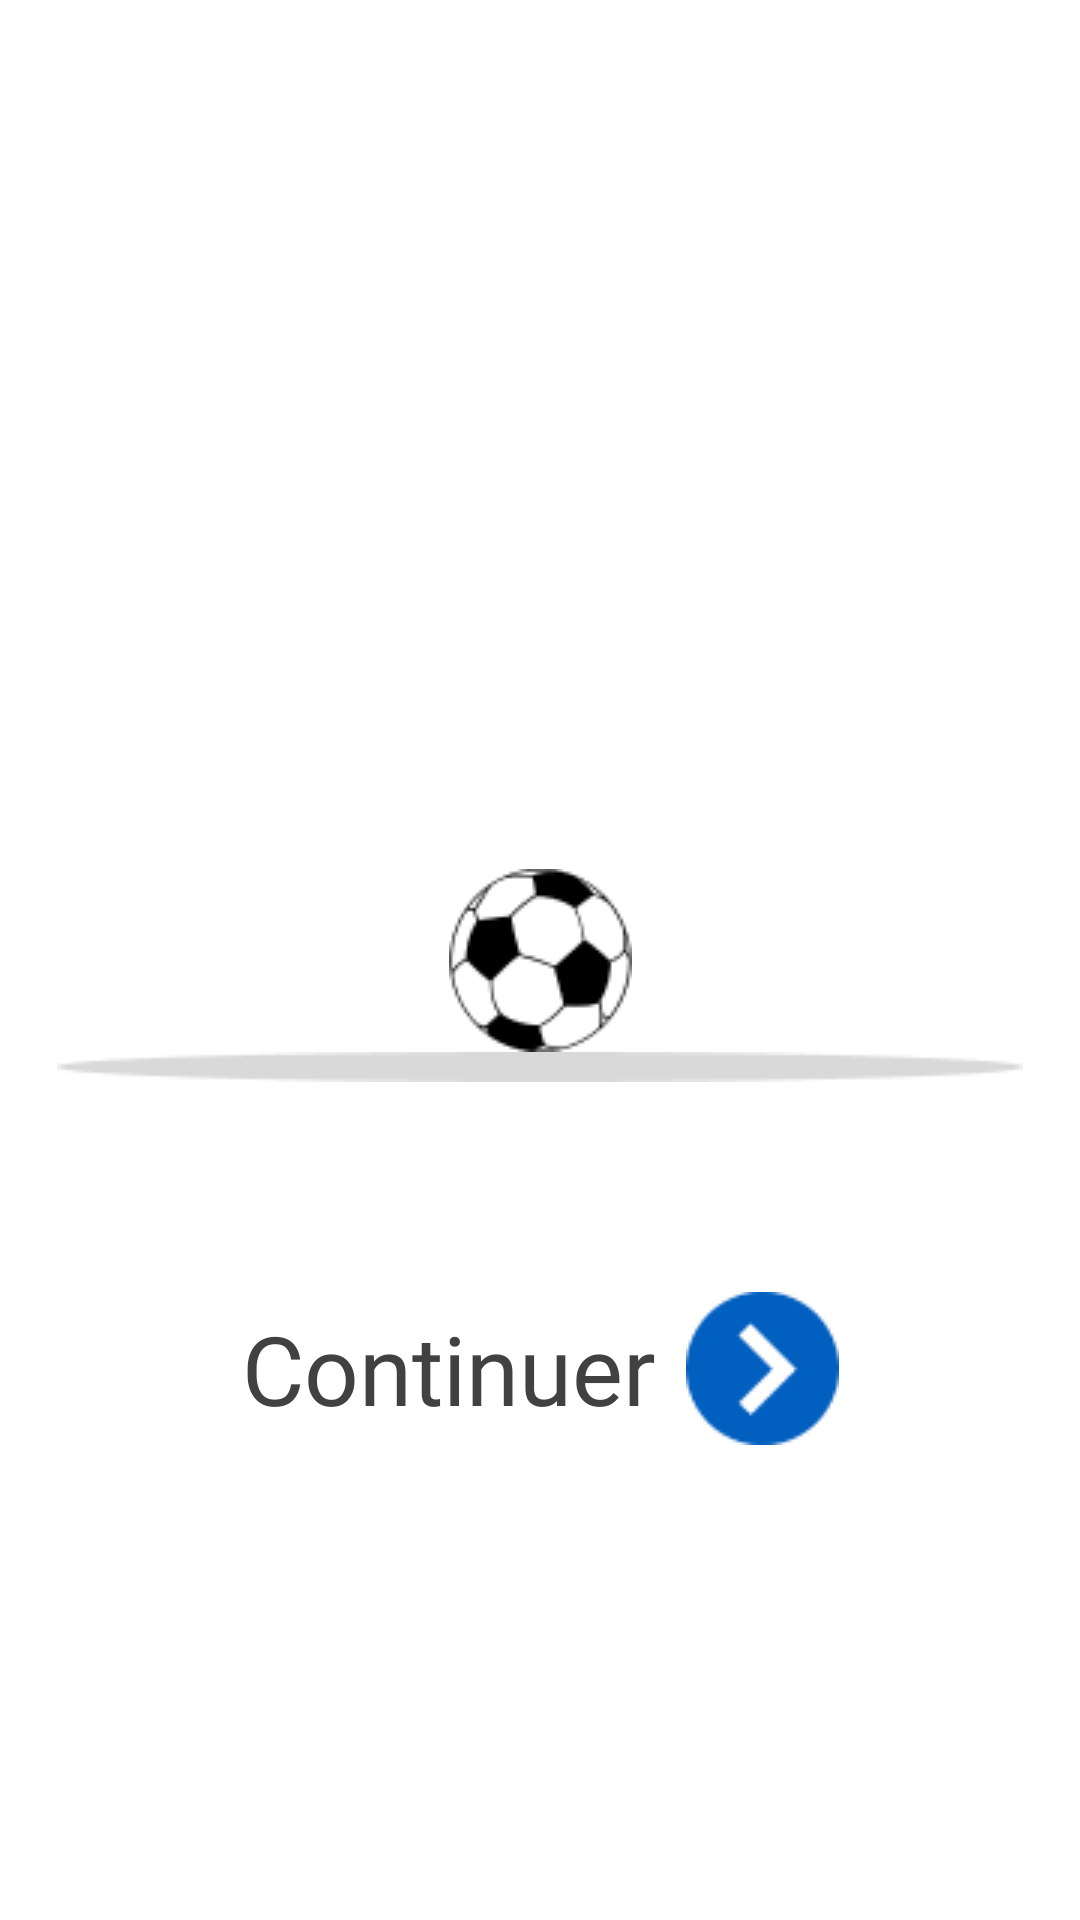

Icons on this 1080w x 1920h Android screen, each with the point to tap as (x,y):
ball: (540,960)
next: (762,1368)
